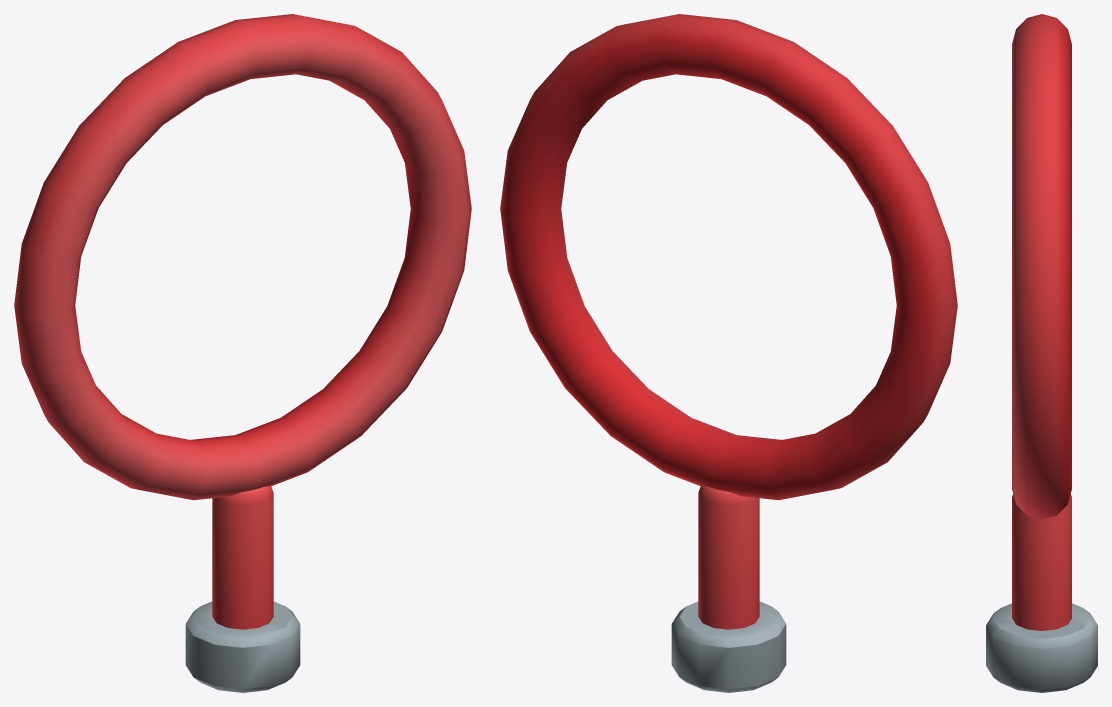
File: hoop_red.glb
3 views of the same model, side by side, from view 1: azimuth 30°, elevation 25°; view 2: azimuth 150°, elevation 25°; view 3: azimuth 270°, elevation 25° (orthographic). The views are drawn at different scales.
Parts seen in each view (by area): view 1: hoop_red; view 2: hoop_red; view 3: hoop_red.
Boxes of the visible parts, x1,y1,x2,y2 form: hoop_red: (14, 14, 471, 692); hoop_red: (500, 14, 957, 692); hoop_red: (986, 14, 1097, 692).
Bounding box in the file's own units: 3.4 × 4.7 × 0.75.
1 material, 1 textured.
